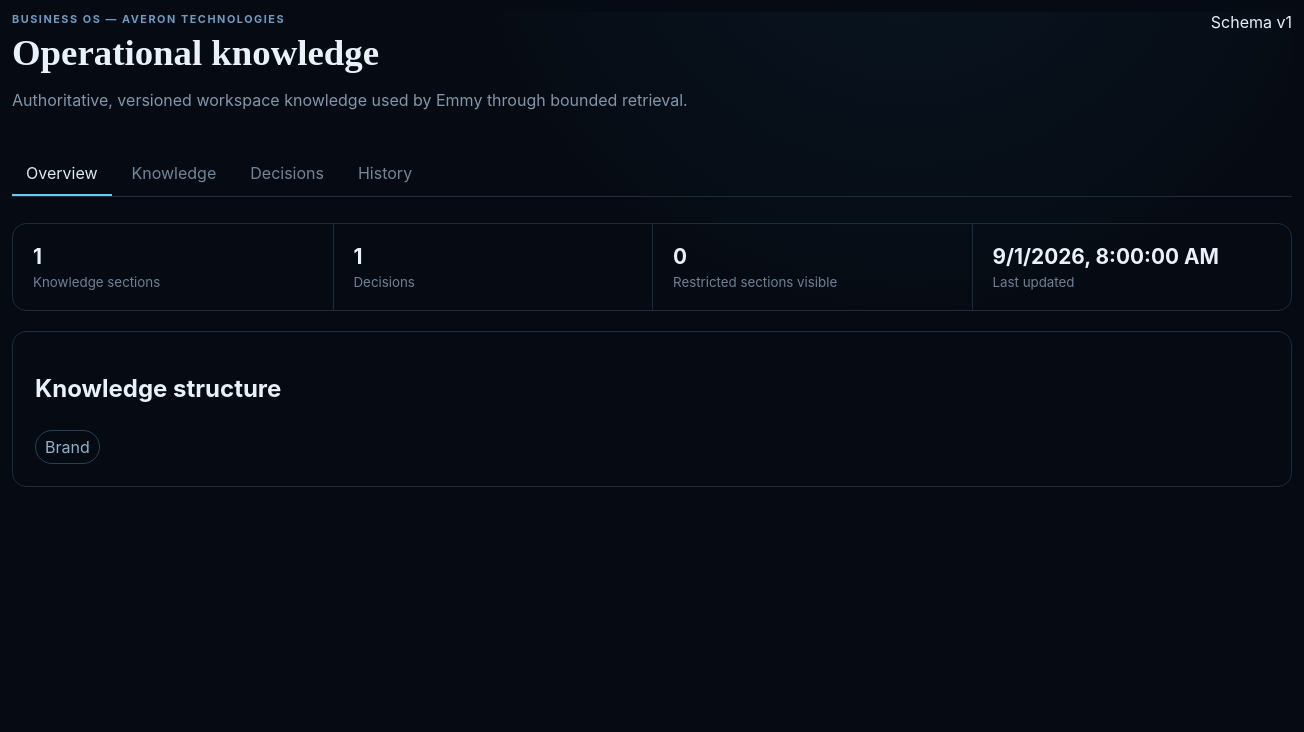
Business OS Control Center › renders authoritative overview, accessible knowledge, decisions, history and deterministic search
expect the heading "Operational knowledge" is shown: met, box x1=12 y1=32 x2=379 y2=73
expect the text "1" is shown 2 times: met, box x1=33 y1=244 x2=42 y2=269; x1=354 y1=244 x2=362 y2=269
Click the button "knowledge". click: (174, 174)
box: x1=118 y1=152 x2=230 y2=196
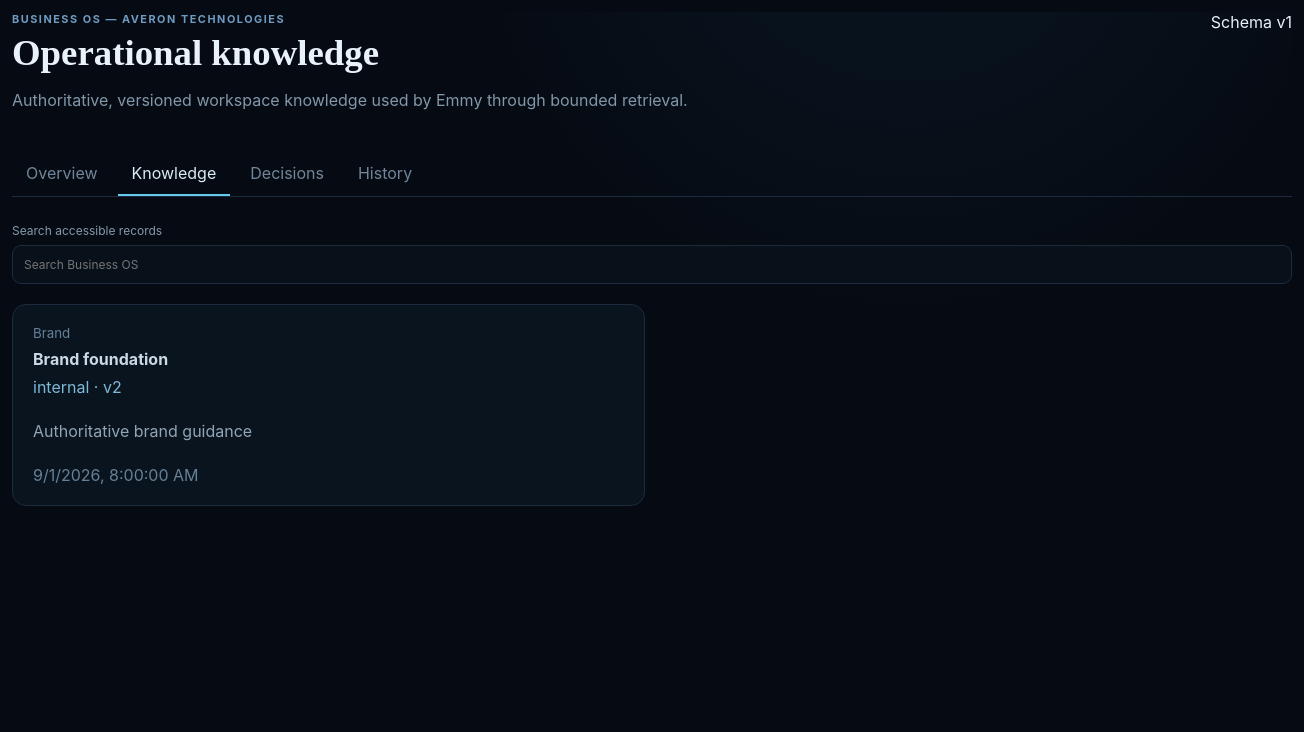
expect the text "Brand foundation" is shown: met, box x1=33 y1=349 x2=168 y2=369
Type "missing" into the field with placeholder "Search Business OS". click: (652, 264)
box: x1=12 y1=245 x2=1292 y2=284
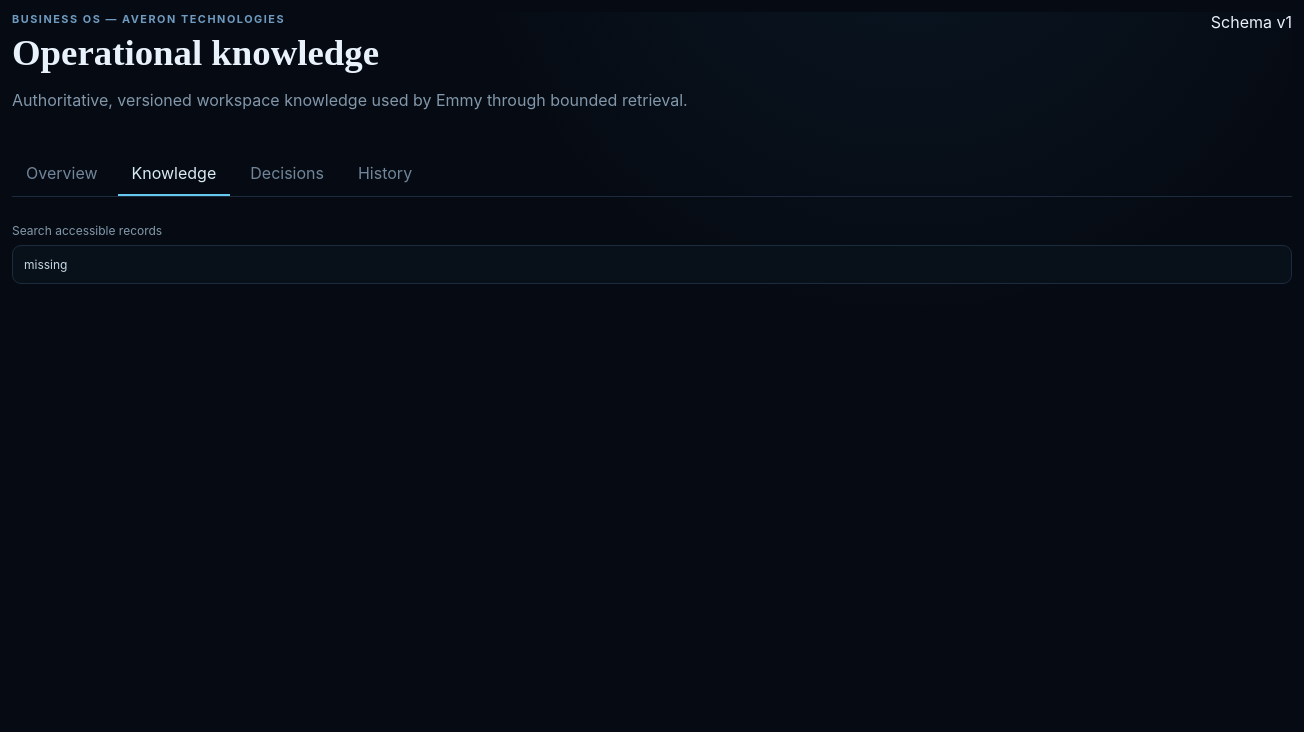
expect the button "Brand foundation" is gone: met
Click the button "decisions". click: (287, 174)
box: x1=236 y1=152 x2=338 y2=196
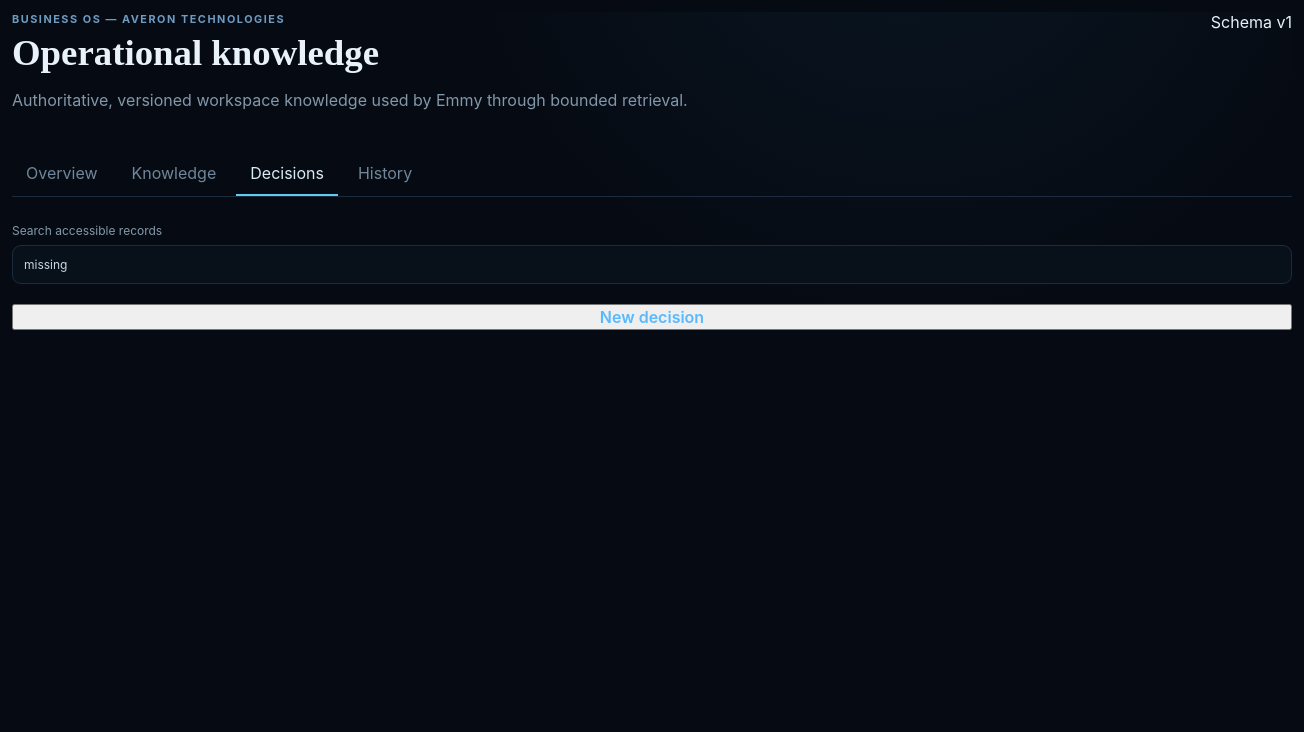
Replace the text in the field with placeholder "Search Business OS" with "private". click: (652, 264)
box: x1=12 y1=245 x2=1292 y2=284
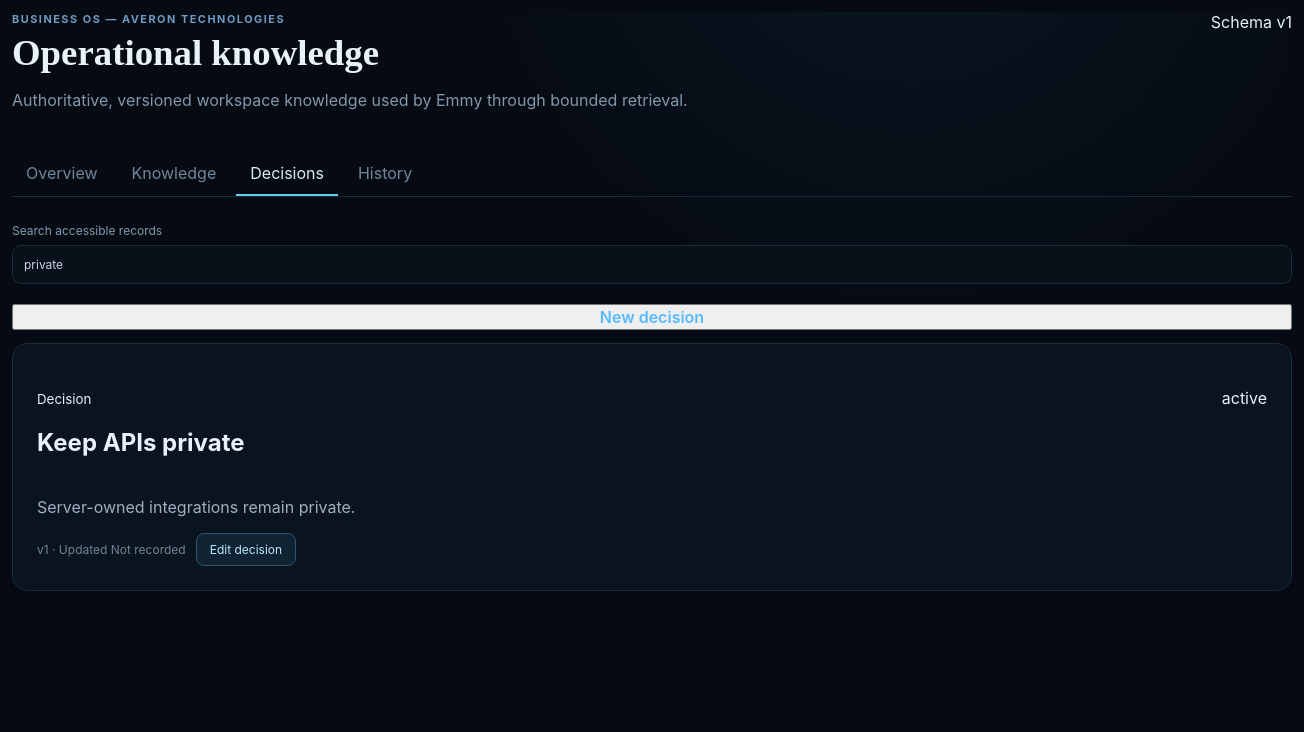
expect the heading "Keep APIs private" is shown: met, box x1=37 y1=428 x2=244 y2=457
Clear the field with placeholder "Search Business OS". click: (652, 264)
box: x1=12 y1=245 x2=1292 y2=284
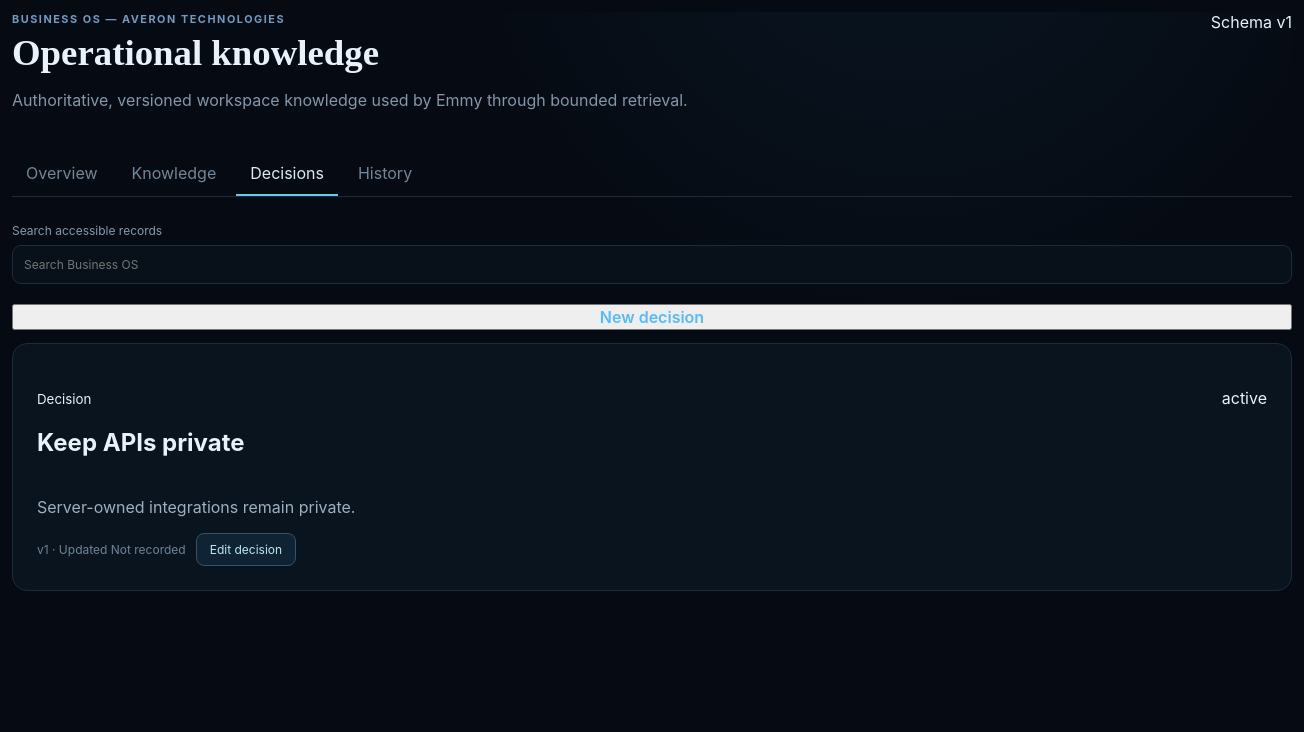
Click the button "history". click: (385, 174)
box: x1=344 y1=152 x2=426 y2=196
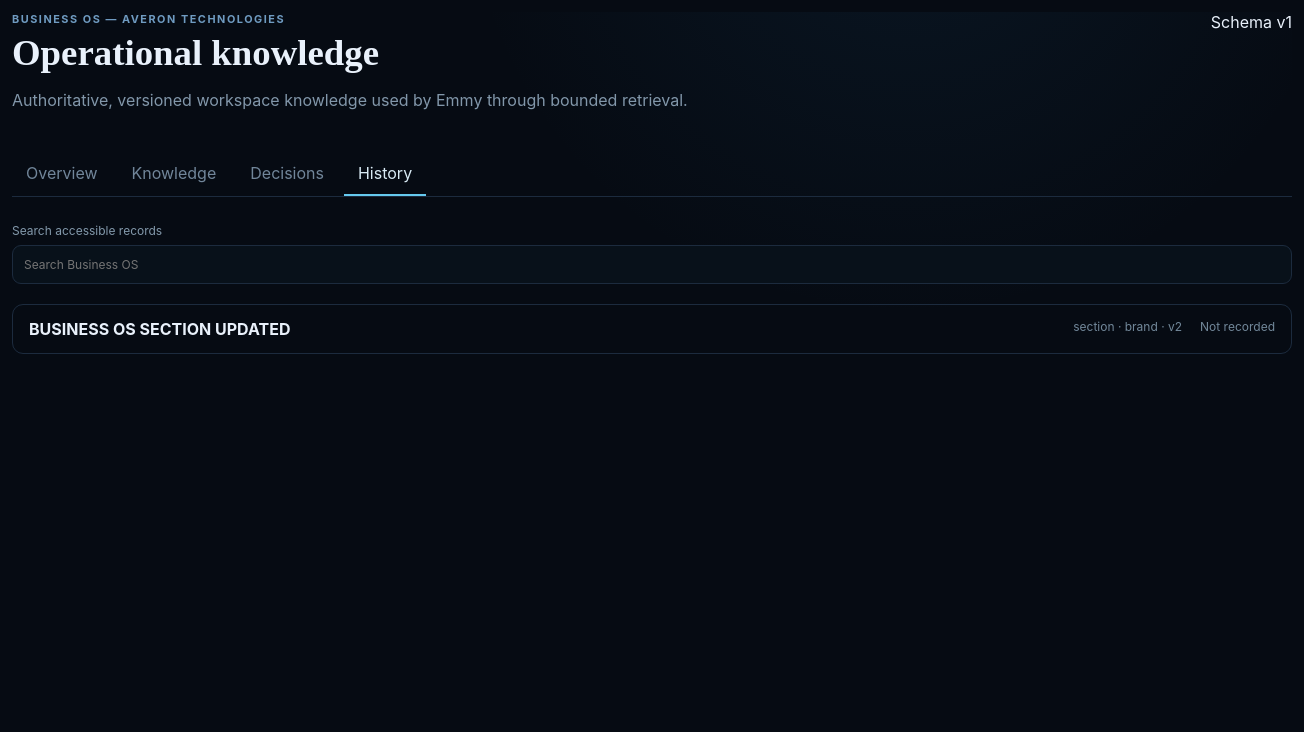
expect the text "BUSINESS OS SECTION UPDATED" is shown: met, box x1=29 y1=319 x2=290 y2=339
